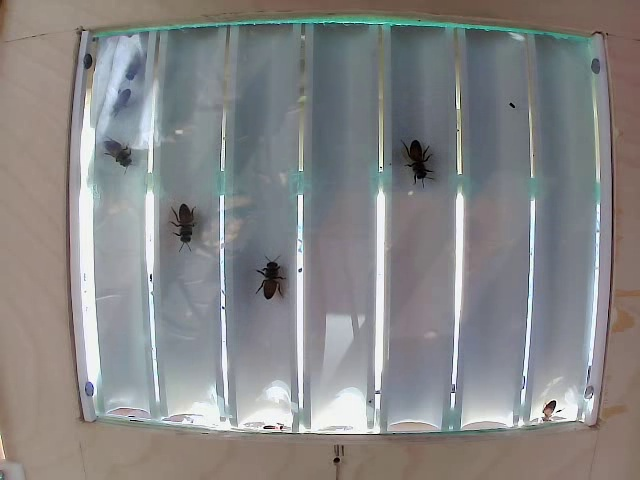bee: (98, 125, 147, 175), (398, 118, 431, 192), (254, 252, 296, 305), (158, 200, 204, 247)
